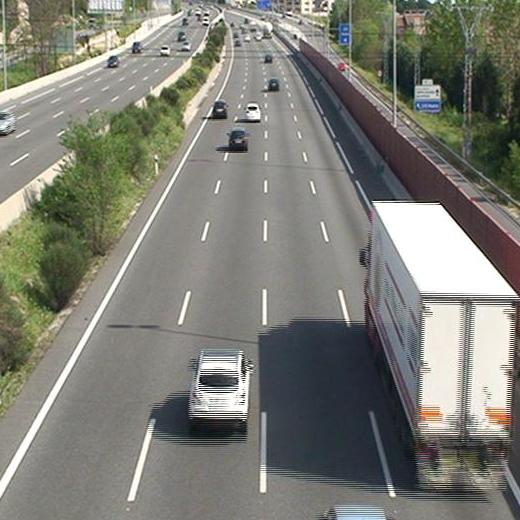car: (190, 352, 251, 426), (227, 129, 248, 151), (212, 100, 227, 118), (244, 104, 260, 119), (267, 78, 280, 91), (264, 53, 273, 63)
truck: (366, 200, 518, 490)
